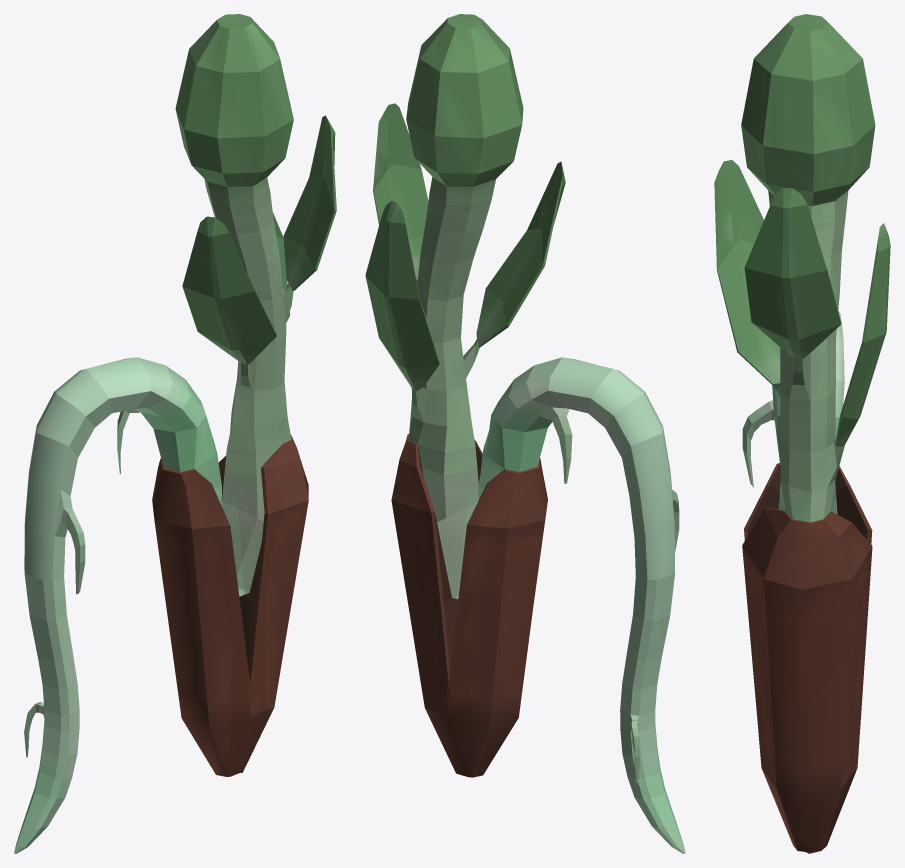
File: dandelionSeedGrowing.fbx
3 renders of one model, left to right at view 1: azimuth 30°, elevation 25°; view 2: azimuth 150°, elevation 25°; view 3: azimuth 270°, elevation 25°, orthographic. The views are drawn at different scales.
Parts seen in each view (by area): view 1: polySurface5; view 2: polySurface5; view 3: polySurface5.
Boxes of the visible parts, x1,y1,x2,y2 form: polySurface5: (14,14,336,853); polySurface5: (365,14,685,853); polySurface5: (714,14,890,853).
Size of the model in its own units: 0.8988 by 2.16 by 0.4004.
